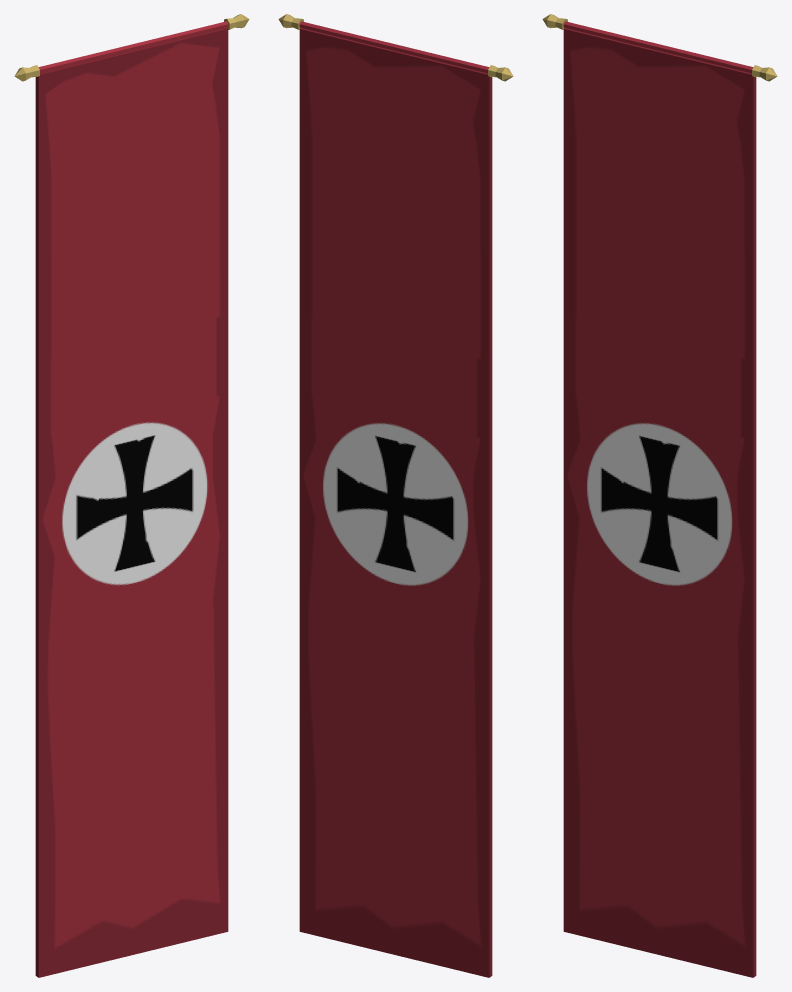
Rendered from SM_Env_Flag_Long_Germany_A.fbx.
The picture shows the model from 3 angles, left to right: view 1: azimuth 30°, elevation 25°; view 2: azimuth 150°, elevation 25°; view 3: azimuth 330°, elevation 25°; orthographic projection.
Visible parts, largest first — view 1: SM_Env_Flag_Long_Germany_A; view 2: SM_Env_Flag_Long_Germany_A; view 3: SM_Env_Flag_Long_Germany_A.
Boxes of the visible parts, <box> form: SM_Env_Flag_Long_Germany_A: <box>14,14,249,977</box>; SM_Env_Flag_Long_Germany_A: <box>278,14,513,977</box>; SM_Env_Flag_Long_Germany_A: <box>542,14,777,977</box>.
Bounding box in the file's own units: 0.0125 × 0.0463 × 0.000625.
